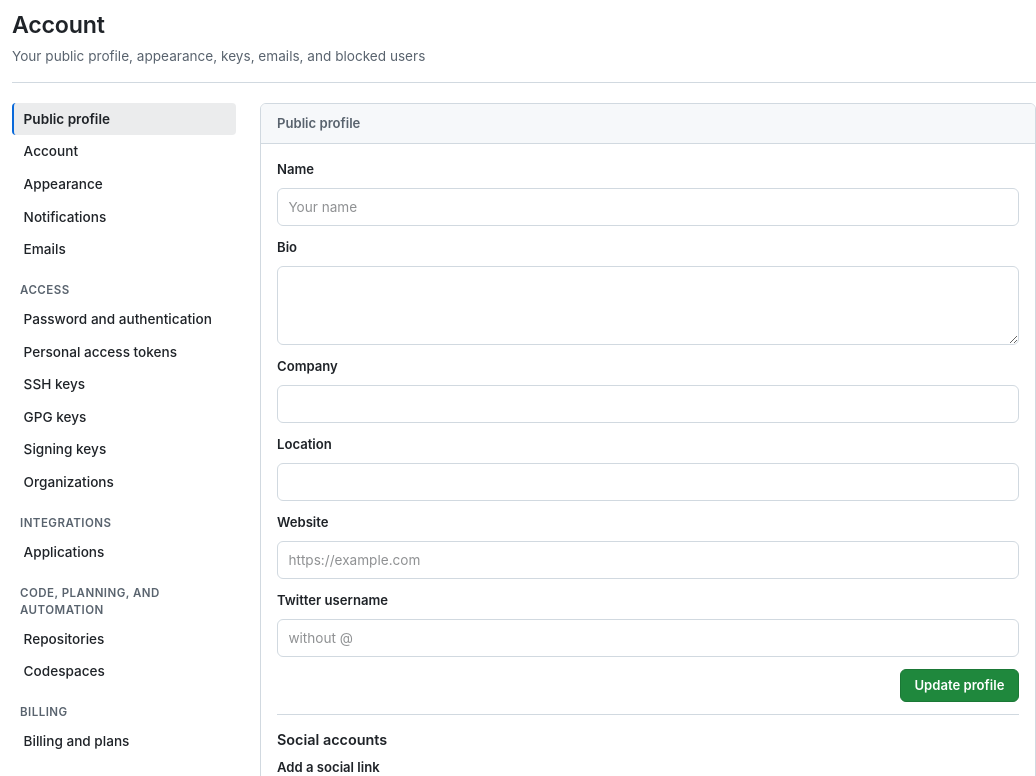
it: AccountPage › lists SSH keys from GET /user/keys
The image size is (1036, 776).
Click the button "SSH keys".
click(124, 384)  # box [12, 368, 236, 400]
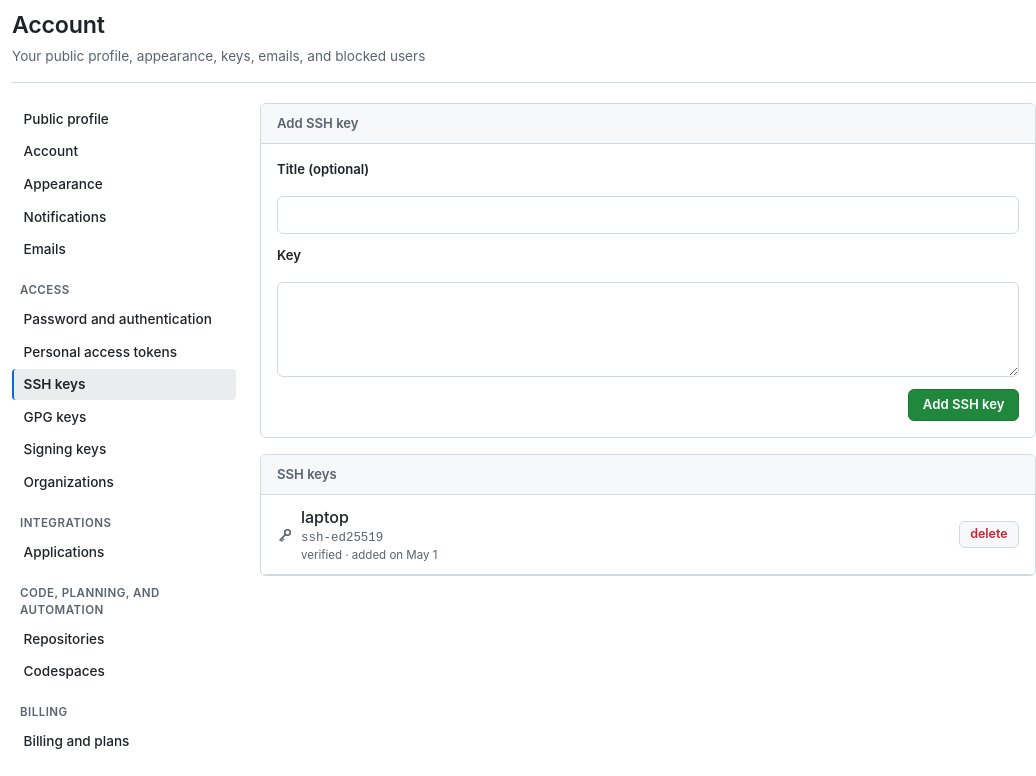
expect the text "laptop" is shown: met, box [301, 507, 349, 527]
expect the text "verified · added on May 1" is shown: met, box [301, 547, 437, 565]
